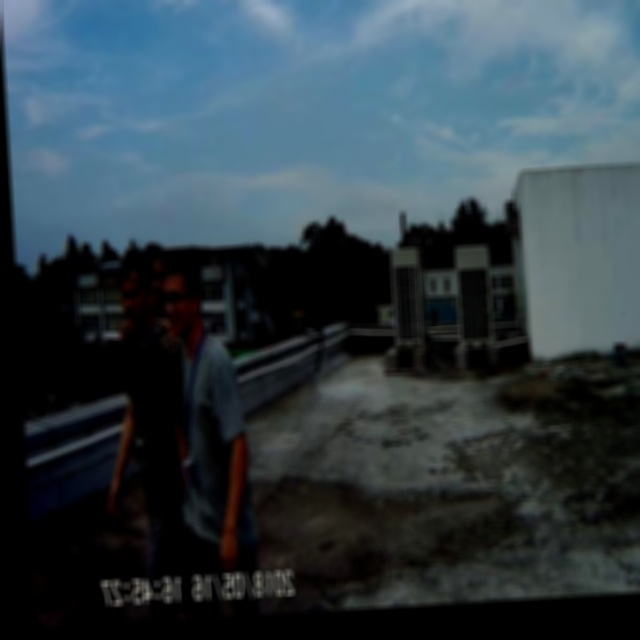Sin_Casco_Mascarrilla: (161, 249, 205, 338)
Sin_Chaleco: (176, 332, 255, 545)
